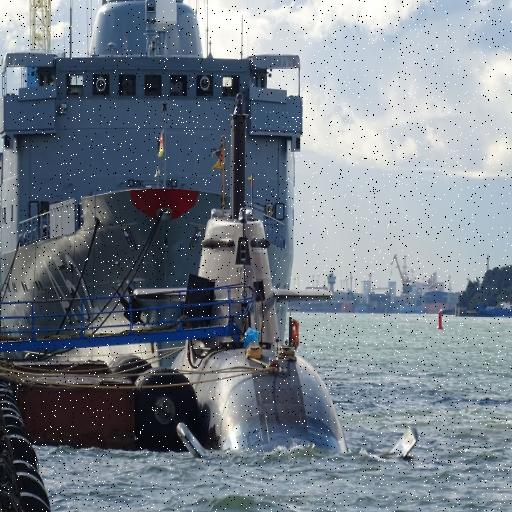submarine: (53, 213, 414, 462)
